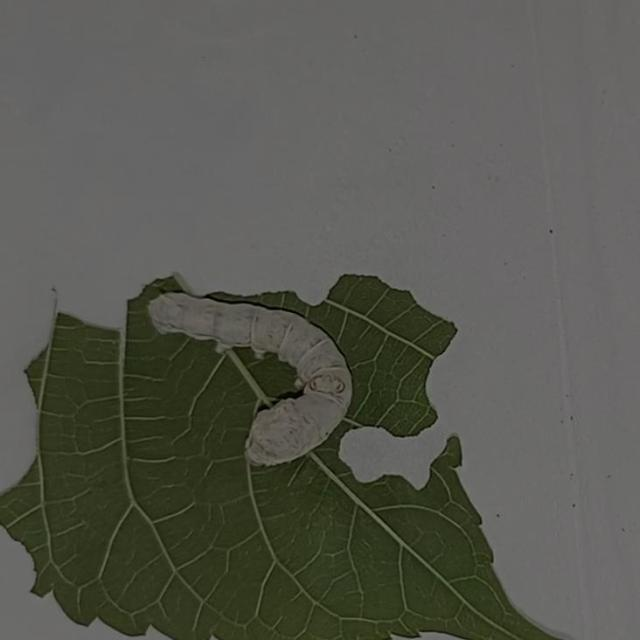Healthy: (130, 277, 375, 480)
